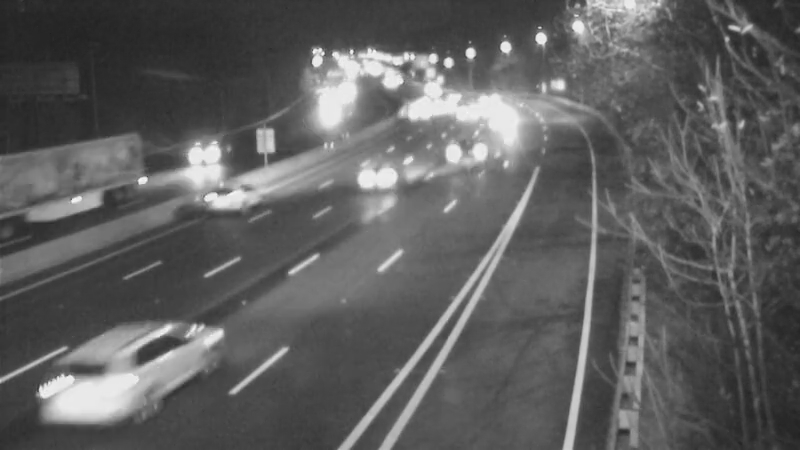vehicle: (34, 335, 144, 445), (335, 138, 415, 218), (188, 158, 268, 238), (173, 112, 253, 192), (1, 156, 74, 236), (433, 73, 483, 123), (397, 78, 447, 128), (455, 73, 505, 123), (468, 84, 518, 134), (440, 90, 490, 140), (391, 86, 441, 136), (478, 98, 528, 148), (444, 125, 494, 175)
